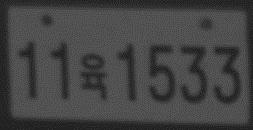1: (49, 40, 71, 102), (18, 40, 39, 100), (117, 40, 137, 103)
3: (179, 44, 207, 105), (212, 45, 241, 103)
5: (147, 43, 177, 102)
육: (80, 52, 107, 100)
